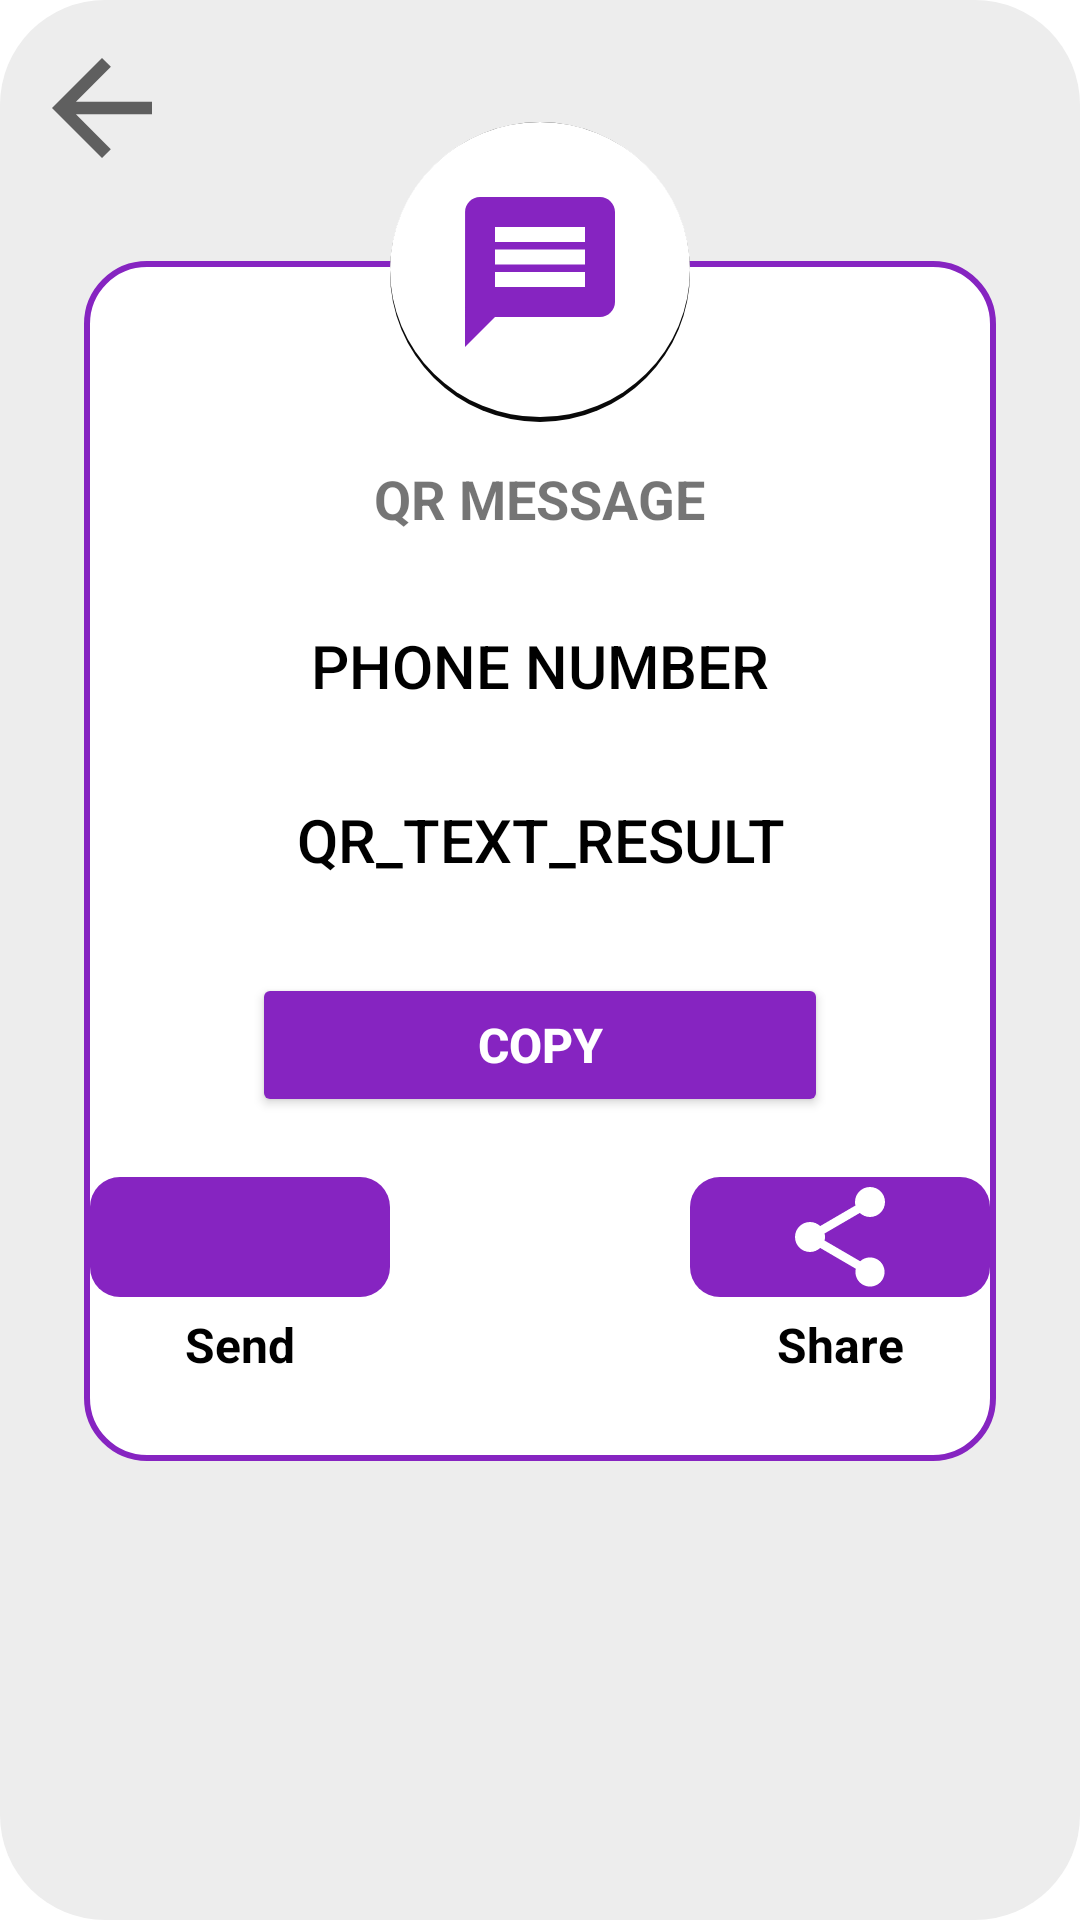

Where icons sit on this 1080*1920 app screen, as (x1, y1, x2, y2):
arrow back: (52, 58, 152, 158)
